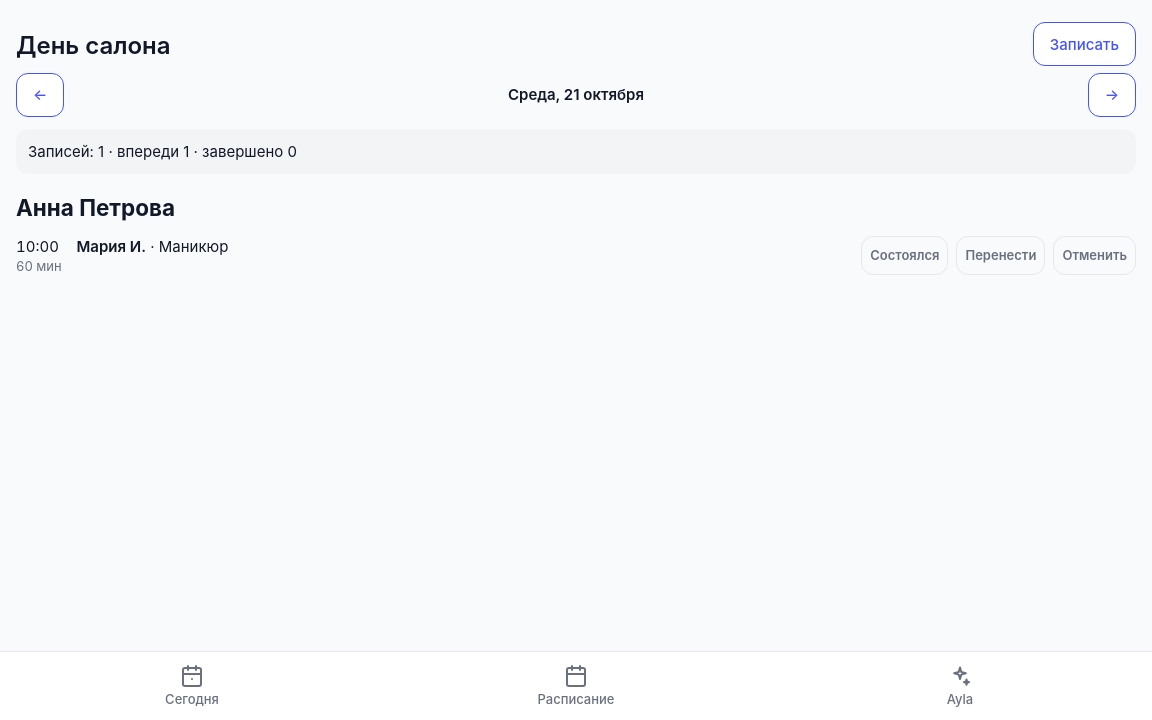
cancelling a visit › keeps the day as it is when the booking cannot be cancelled
The image size is (1152, 720).
Click the button with aria-label "Отменить визит: Мария" at (1095, 256), box [1053,236,1136,275]
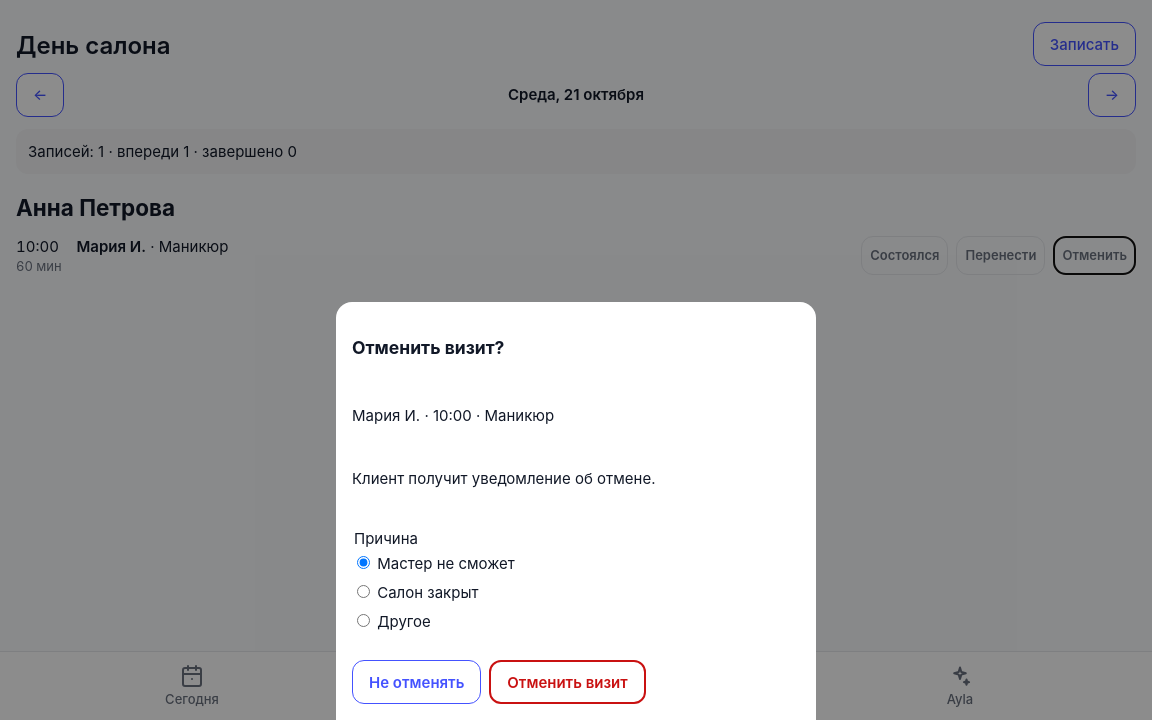
Click the button "Отменить визит" at (568, 682), box [489,660,646,704]
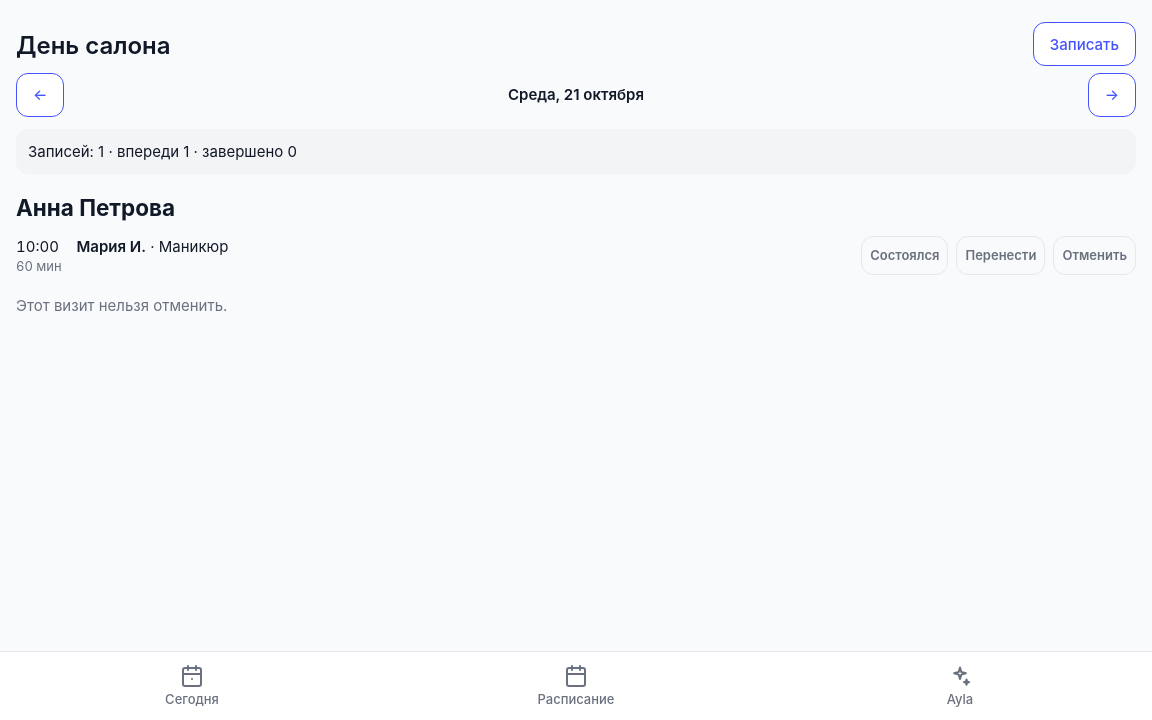
expect the text "Этот визит нельзя отменить." is shown: met, box [16,296,227,315]
